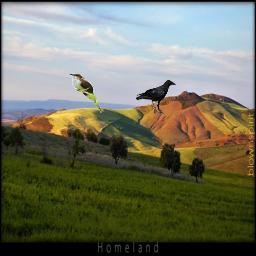Crow: (136, 79, 176, 114)
Cuckoo: (69, 73, 102, 113)
